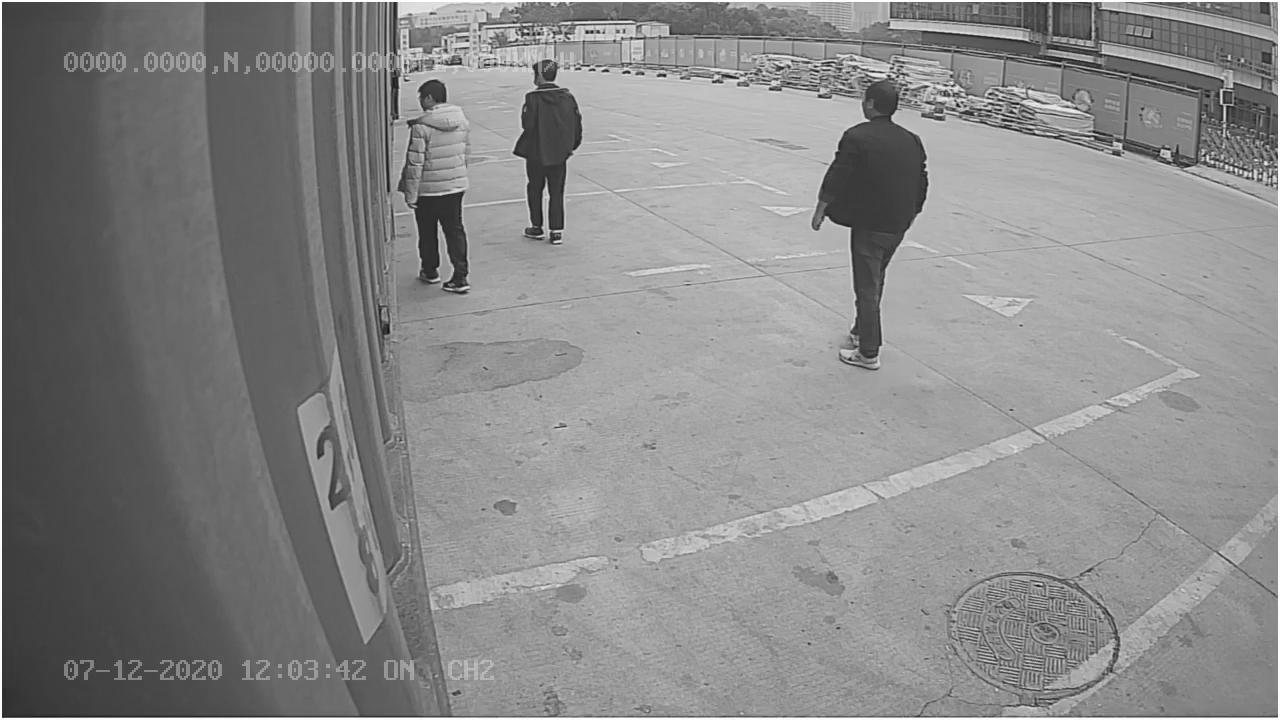person: (813, 83, 931, 371)
